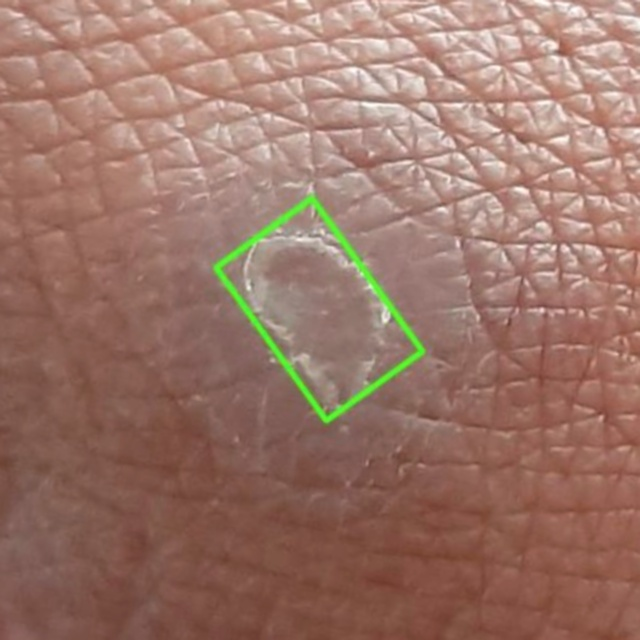Eczema: (216, 198, 423, 421)
